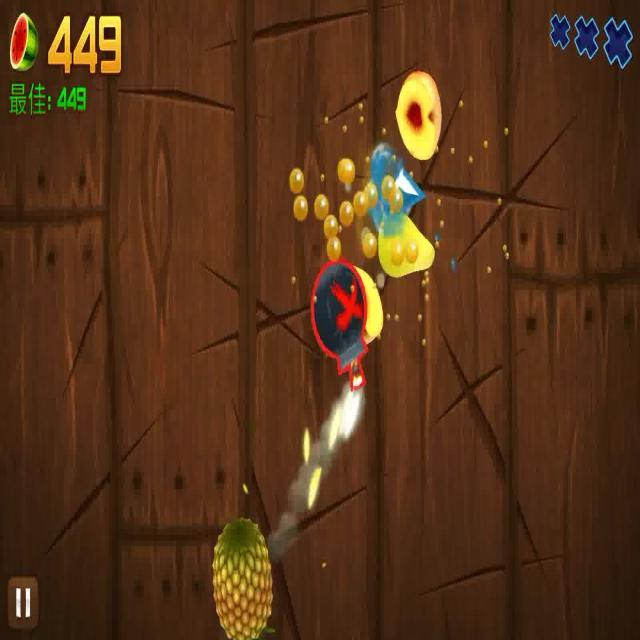bomb: (309, 260, 365, 396)
fruit: (209, 521, 276, 640), (373, 205, 435, 274), (397, 69, 442, 157), (353, 265, 382, 348)
